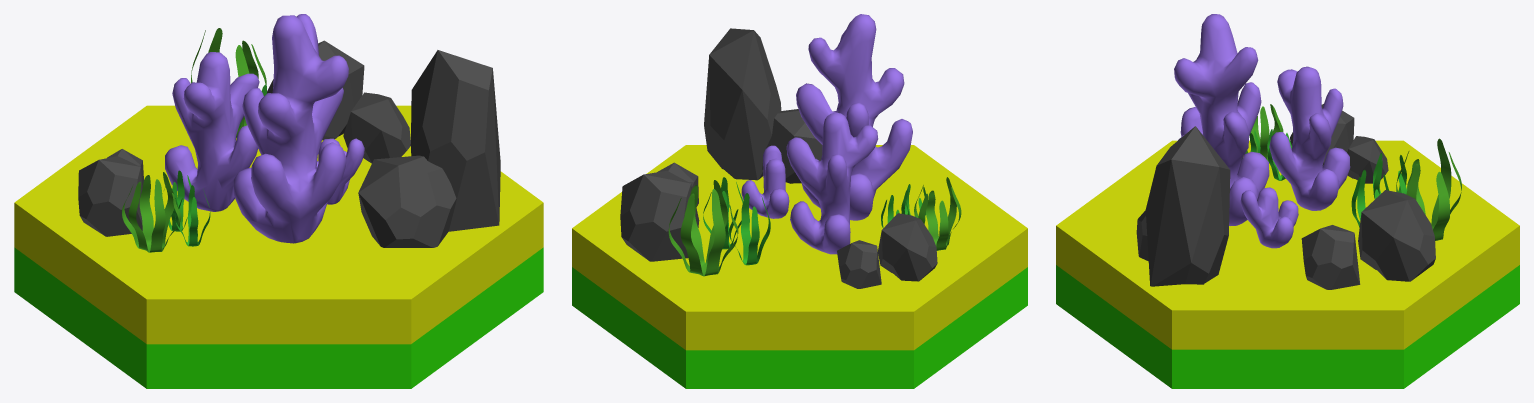
Rendered from HexagonNonconstructible2.fbx.
3 renders of one model, left to right at view 1: azimuth 30°, elevation 25°; view 2: azimuth 150°, elevation 25°; view 3: azimuth 270°, elevation 25°, orthographic. The views are drawn at different scales.
Visible parts, largest first — view 1: Circle; view 2: Circle; view 3: Circle.
Boxes of the visible parts, x1,y1,x2,y2 form: Circle: (14, 14, 543, 388); Circle: (572, 14, 1027, 388); Circle: (1056, 14, 1519, 388).
Size of the model in its own units: 173 by 131 by 200.
